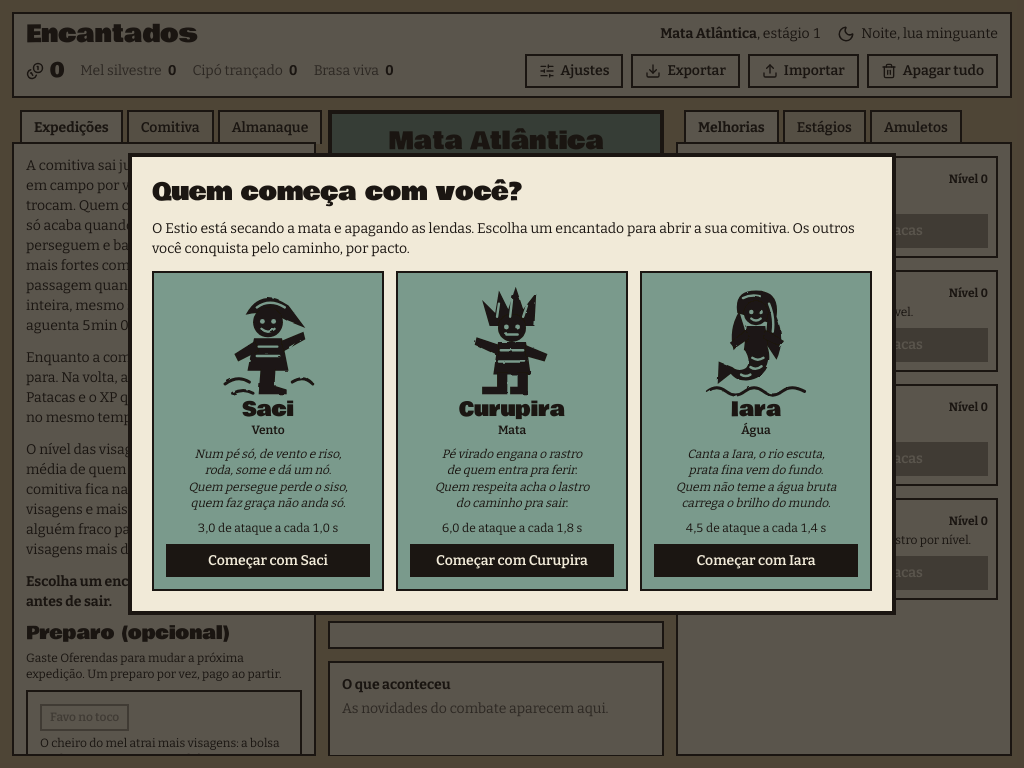
começo do jogo › pede a escolha do encantado inicial e fecha a janela depois dela
This screenshot has width=1024, height=768.
Click the button "Começar com Curupira".
click(512, 561)  # box [410,544,614,577]
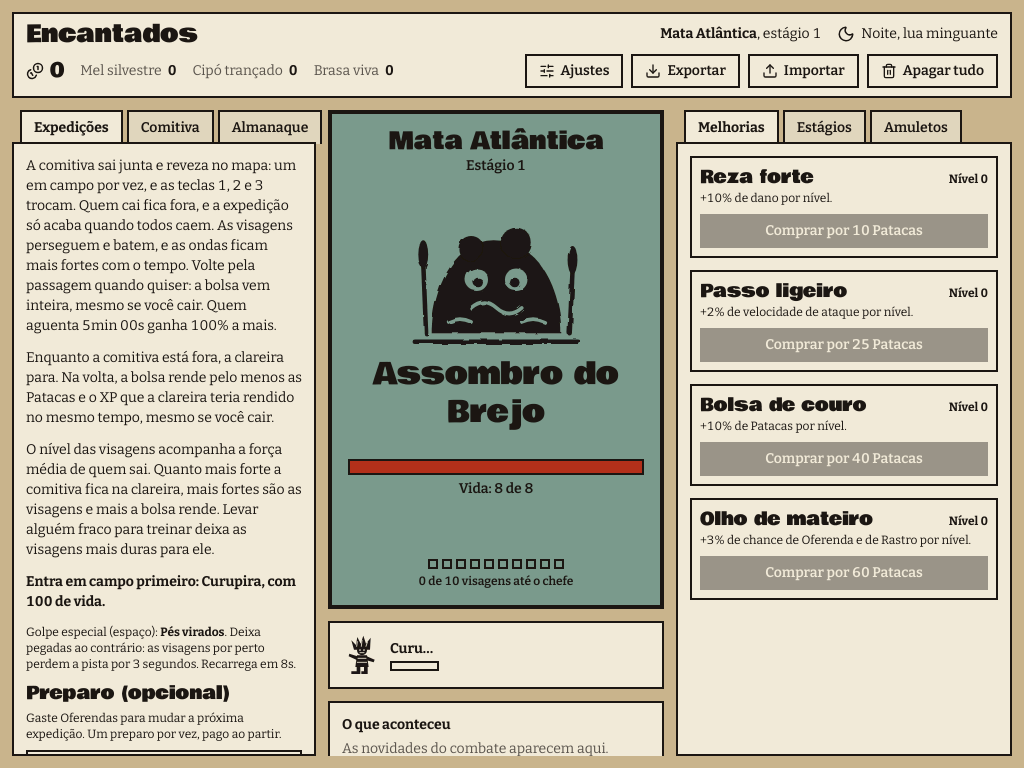
Expected: the text "Mata Atlântica" is shown, [660,25,757,42]
Expected: the heading "Quem começa com você?" is gone
